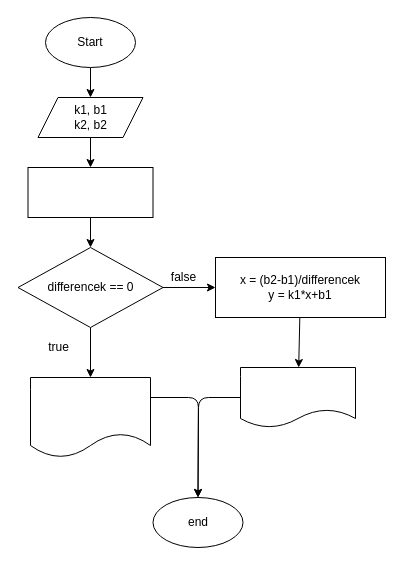
The diagram is 403 pixels wide and 565 high, and some of its shapes have lost their labels. The shapes that lost their labels are listed below. From the top down, each one's centre as x and y in pixels, then its label:
At pixel 90 192: "differencek = k1 - k2".
At pixel 90 417: "Точка пересечения отсутсвует".
At pixel 298 397: "GoodPrint".
